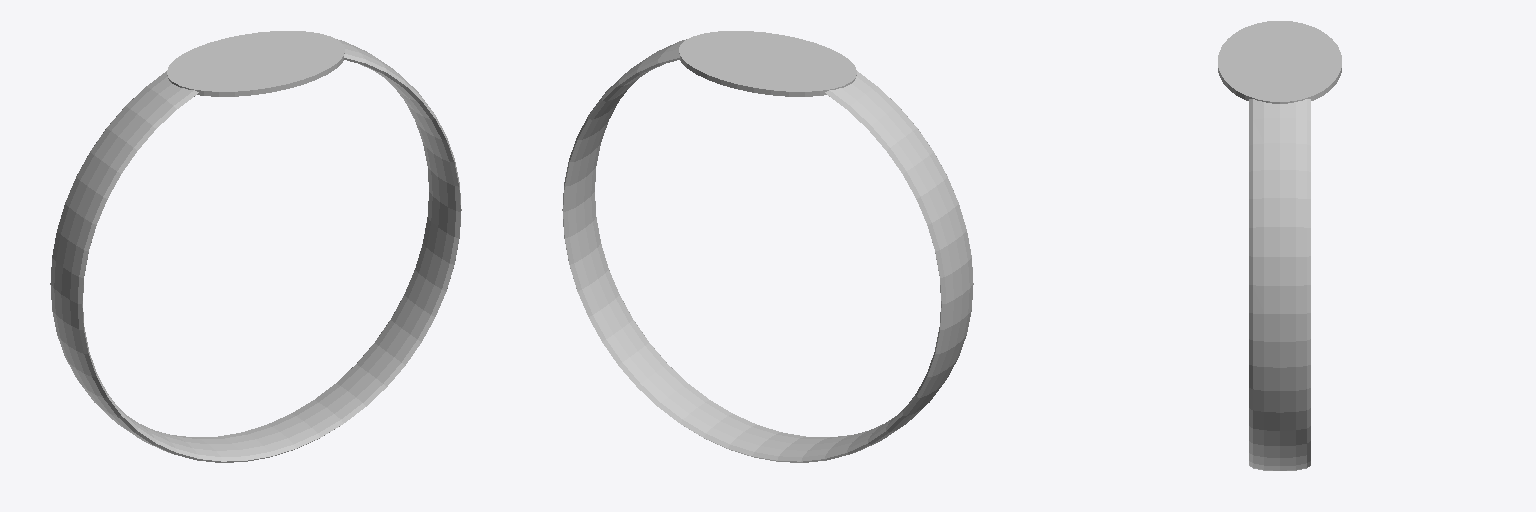
The model's file is ultraleap_elbow.obj.
3 renders of one model, left to right at view 1: azimuth 30°, elevation 25°; view 2: azimuth 150°, elevation 25°; view 3: azimuth 270°, elevation 25°, orthographic.
Visible parts, largest first — view 1: Tracker; view 2: Tracker; view 3: Tracker.
Boxes of the visible parts, x1=… form: Tracker: x1=50, y1=31, x2=461, y2=462; Tracker: x1=562, y1=31, x2=973, y2=462; Tracker: x1=1218, y1=21, x2=1341, y2=470.
Size of the model in its own units: 0.1008 by 0.0963 by 0.028.